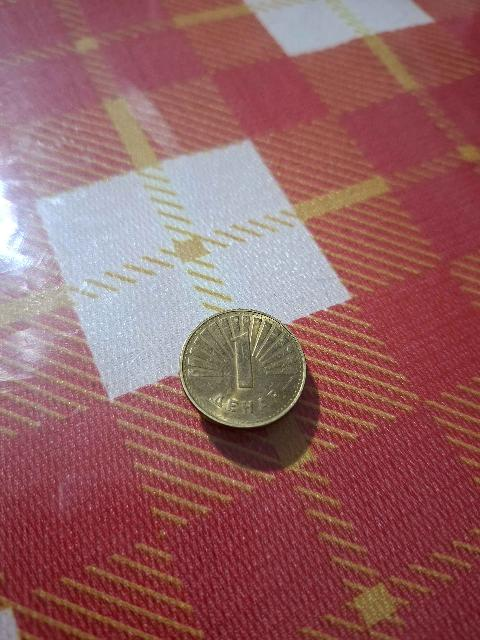coin: (180, 310, 306, 427)
